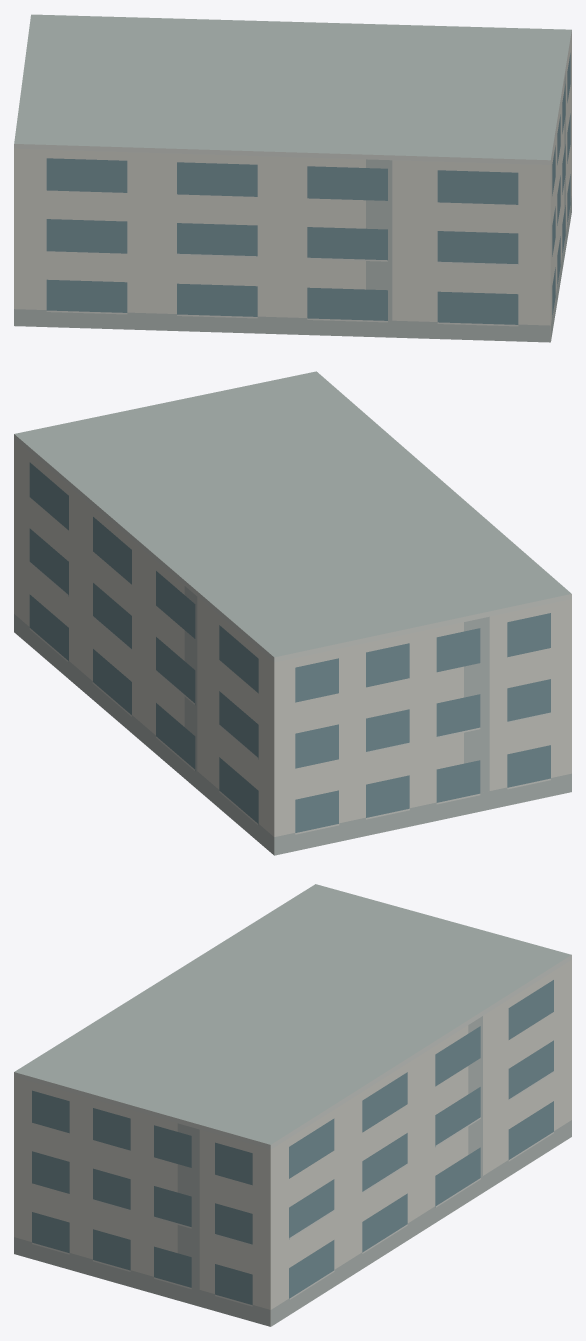
File: survey-upis-32739579.glb
3 views of the same model, one above another, from view 1: azimuth 30°, elevation 25°; view 2: azimuth 150°, elevation 25°; view 3: azimuth 270°, elevation 25° (orthographic). The views are drawn at different scales.
Parts seen in each view (by area): view 1: survey-upis-32739579.tmp; view 2: survey-upis-32739579.tmp; view 3: survey-upis-32739579.tmp.
Boxes of the visible parts, x1,y1,x2,y2 form: survey-upis-32739579.tmp: (14,14,571,342); survey-upis-32739579.tmp: (14,371,571,855); survey-upis-32739579.tmp: (14,884,571,1326).
Bounding box in the file's own units: 28.14 × 9.15 × 25.43.
